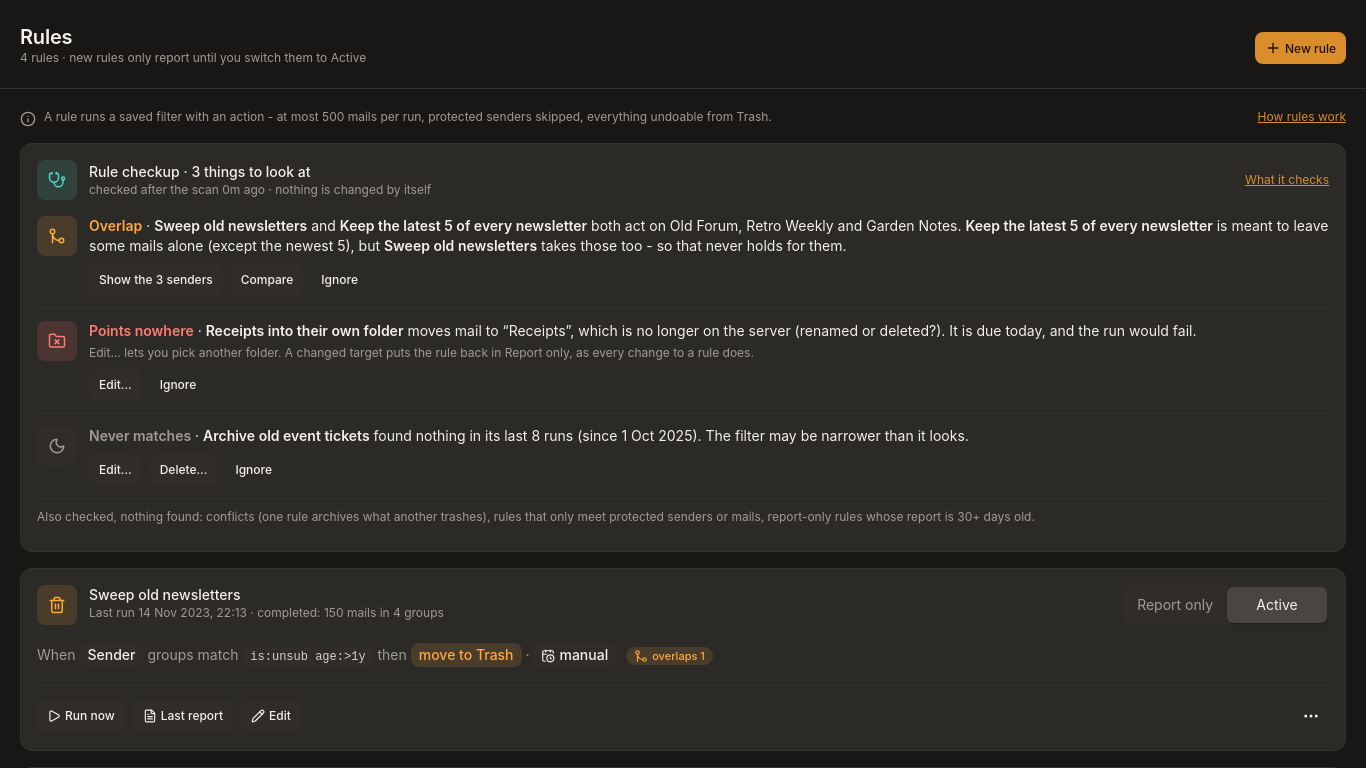
Test: Edit… opens today's editor with the rule; a changed target is explained
This screenshot has width=1366, height=768.
Click the button "Edit…" below "Points nowhere" at (115, 385), box [89,369,142,401]
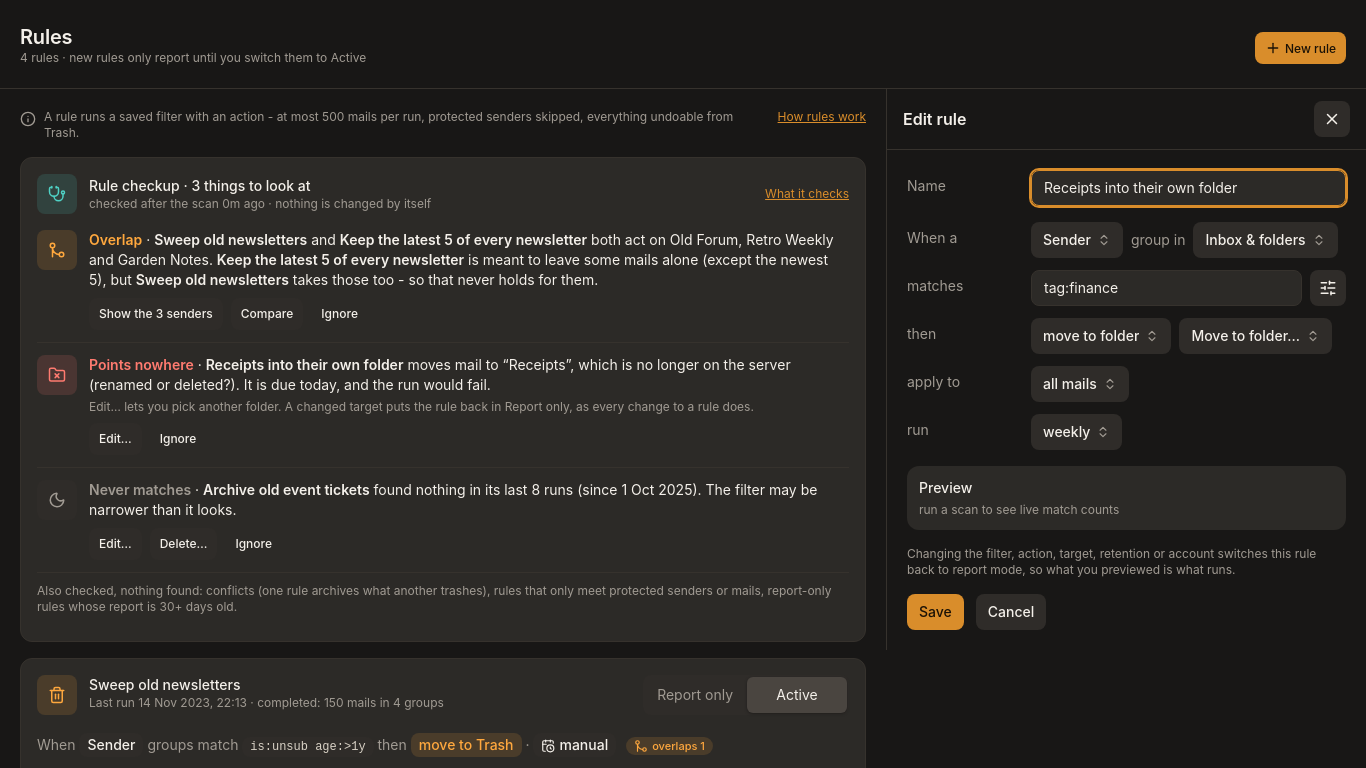
Result: the field named "name" holds "Receipts into their own folder" at [1031,170,1346,206]
Result: the heading "Edit rule" is shown at [903,109,966,129]
